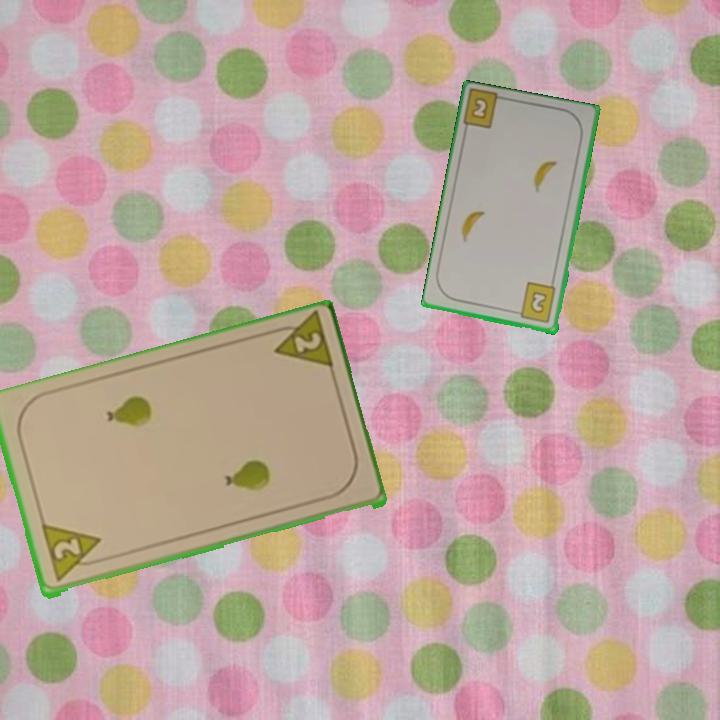2b: (511, 279, 559, 326), (468, 94, 491, 122)
2p: (264, 311, 337, 375), (38, 522, 107, 587)
